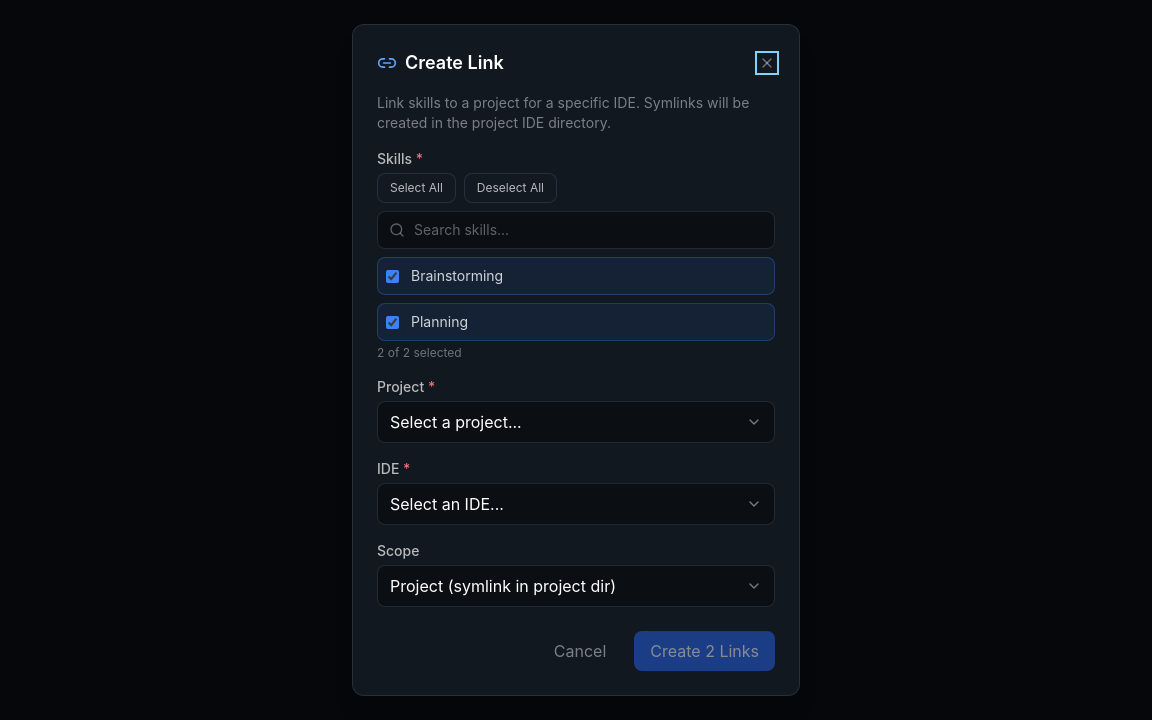
CreateLinkDialog › shows empty message when search yields no results
The width and height of the screenshot is (1152, 720).
Type "xyz" into the field with placeholder "Search skills...".
click(576, 230); type("xyz")  # box [377,211,775,249]
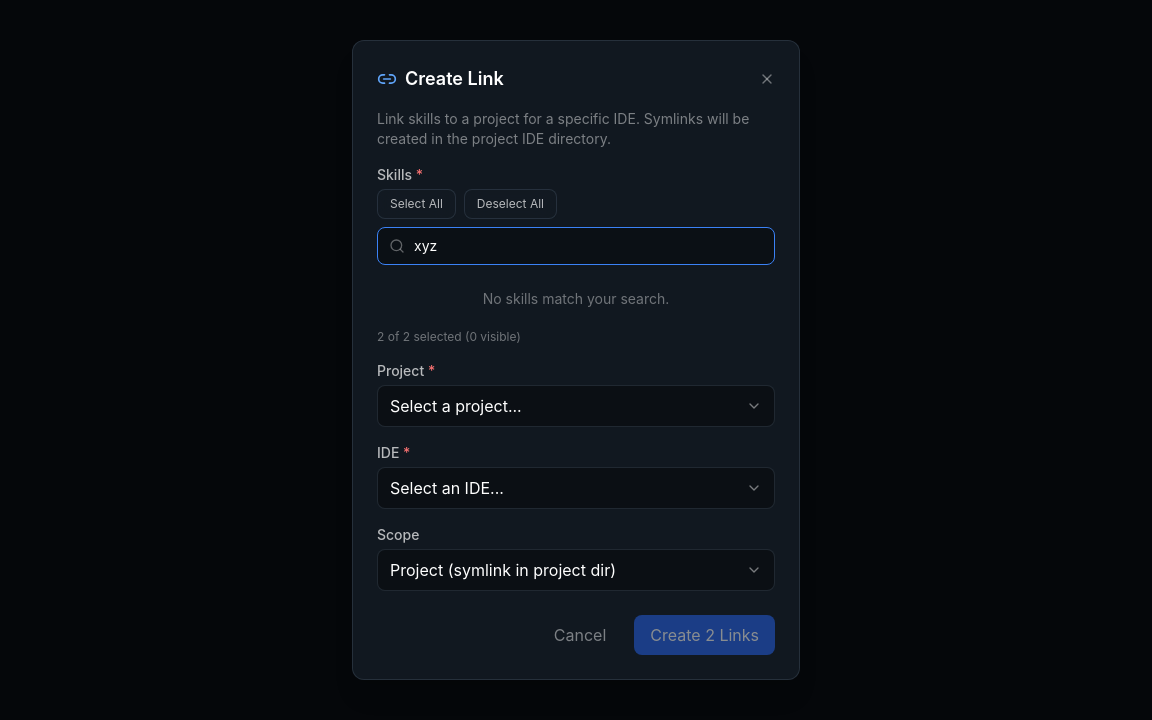
expect the text "No skills match your search." is shown: met, box [483,290,669,307]
expect the text "Brainstorming" is gone: met
expect the text "Planning" is gone: met
